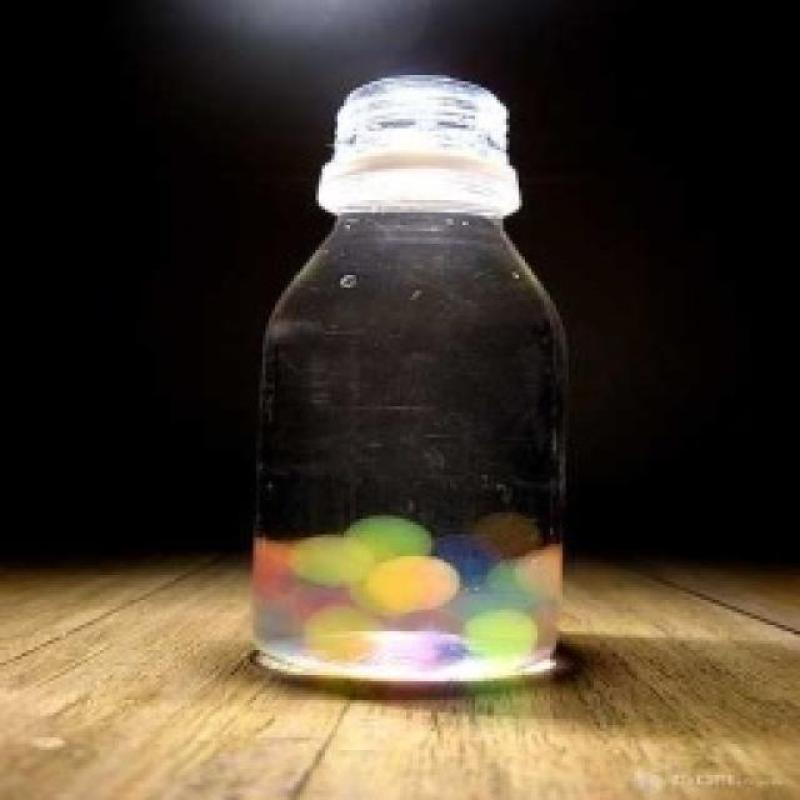botella: (244, 71, 575, 690)
